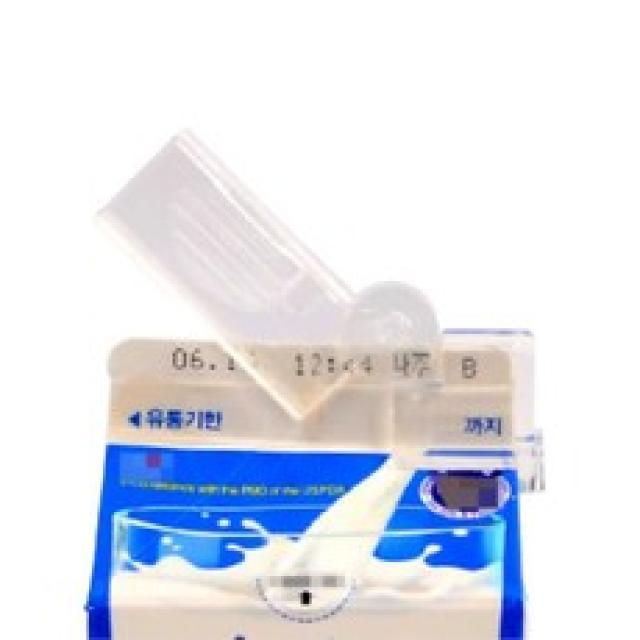Carton: (72, 311, 539, 640)
